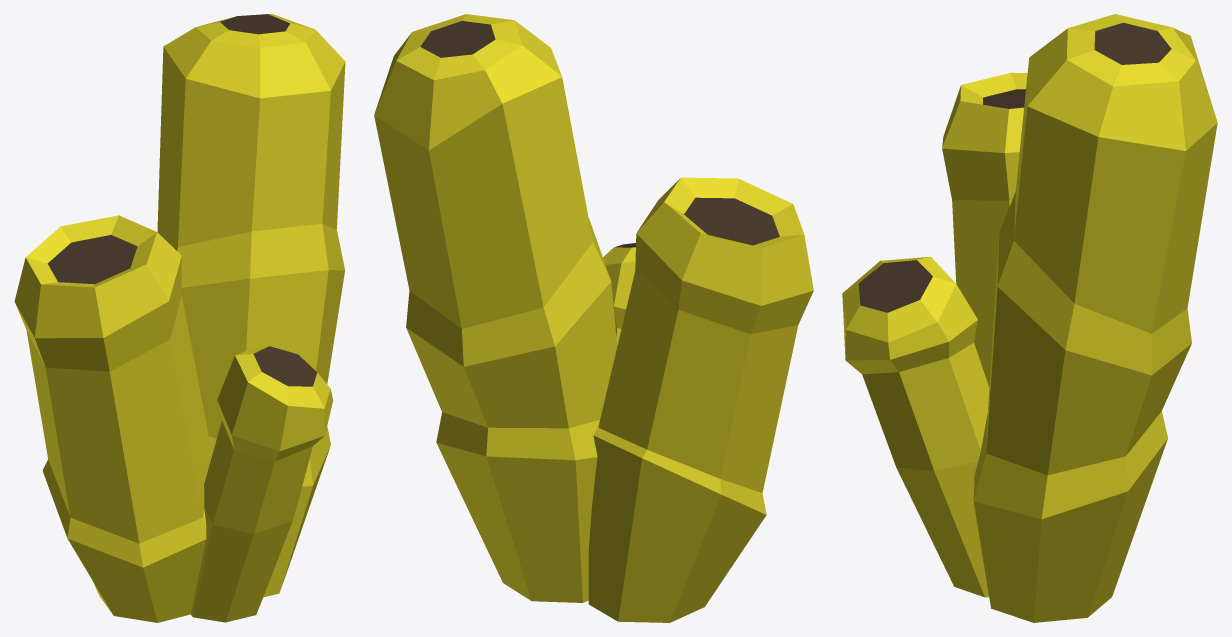
File: coral_01.fbx
3 renders of one model, left to right at view 1: azimuth 30°, elevation 25°; view 2: azimuth 150°, elevation 25°; view 3: azimuth 270°, elevation 25°, orthographic. The views are drawn at different scales.
Parts seen in each view (by area): view 1: coral_01; view 2: coral_01; view 3: coral_01.
Part boxes in pixels (bbox=[...]): coral_01: bbox=[14, 14, 345, 622]; coral_01: bbox=[374, 14, 813, 622]; coral_01: bbox=[842, 14, 1217, 622].
Size of the model in its own units: 97.09 by 138 by 79.14.
